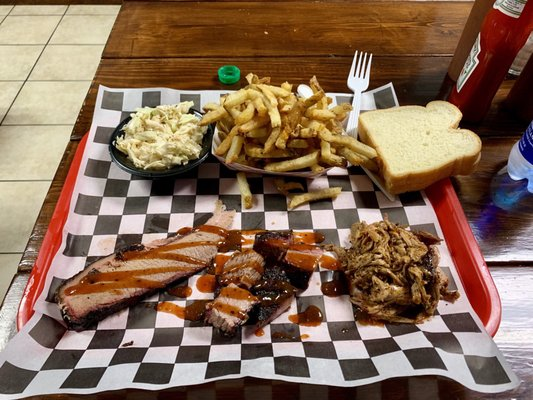burger: (345, 50, 373, 139)
soup: (355, 102, 482, 196)
